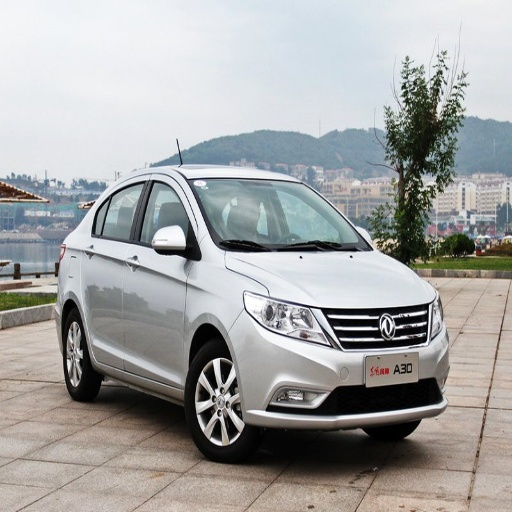front_bumper: (232, 301, 446, 429)
front_right_door: (125, 175, 194, 386)
front_right_light: (244, 289, 329, 345)
